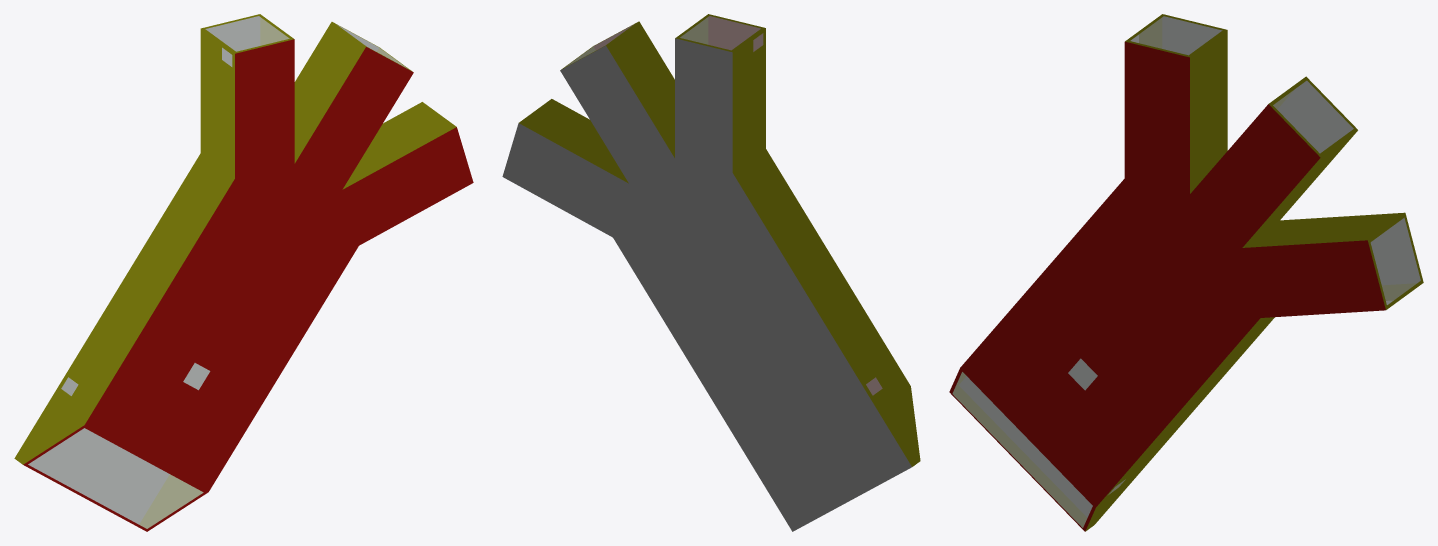
The model's file is idf.obj.
3 views of the same model, side by side, from view 1: azimuth 30°, elevation 25°; view 2: azimuth 150°, elevation 25°; view 3: azimuth 330°, elevation 25° (orthographic). The views are drawn at different scales.
Bounding box in the file's own units: 43.4 × 47.06 × 6.1.
